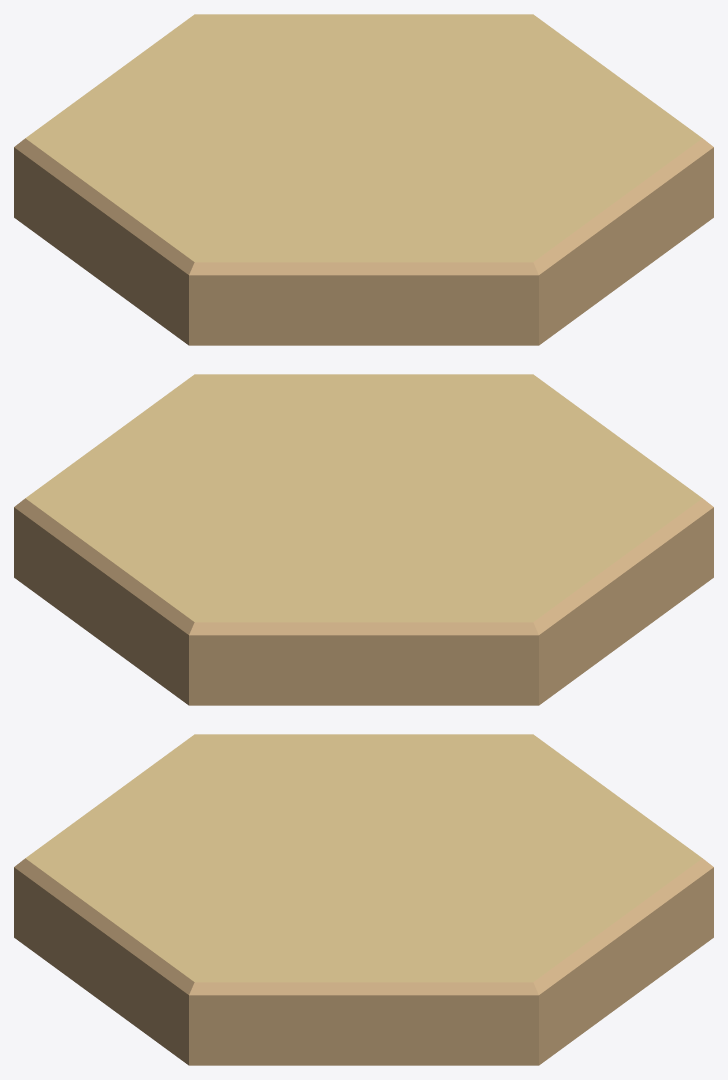
Rendered from tile_sand_plain.fbx.
The picture shows the model from 3 angles, top to bottom: view 1: azimuth 30°, elevation 25°; view 2: azimuth 150°, elevation 25°; view 3: azimuth 270°, elevation 25°; orthographic projection.
Parts seen in each view (by area): view 1: tile_sand_plain; view 2: tile_sand_plain; view 3: tile_sand_plain.
Boxes of the visible parts, x1,y1,x2,y2 form: tile_sand_plain: (14,14,713,345); tile_sand_plain: (14,374,713,705); tile_sand_plain: (14,734,713,1065).
Size of the model in its own units: 1.73 by 0.25 by 2.
